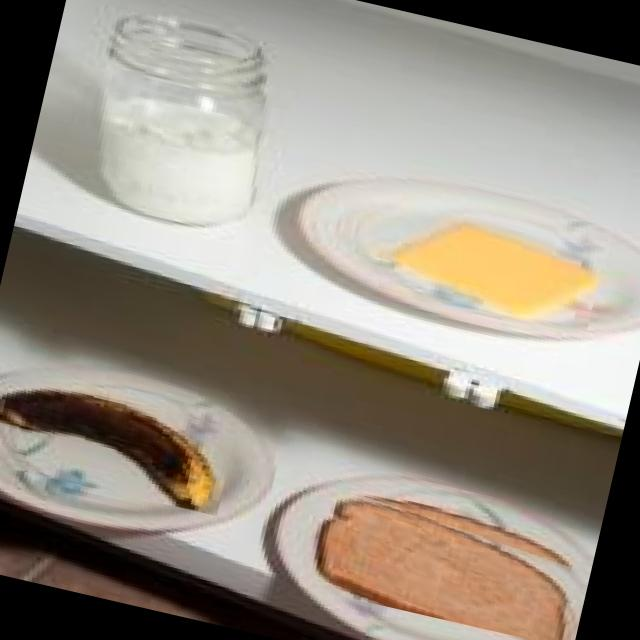Organic: (297, 481, 596, 640), (368, 184, 609, 335), (0, 370, 238, 516), (87, 99, 266, 224)
